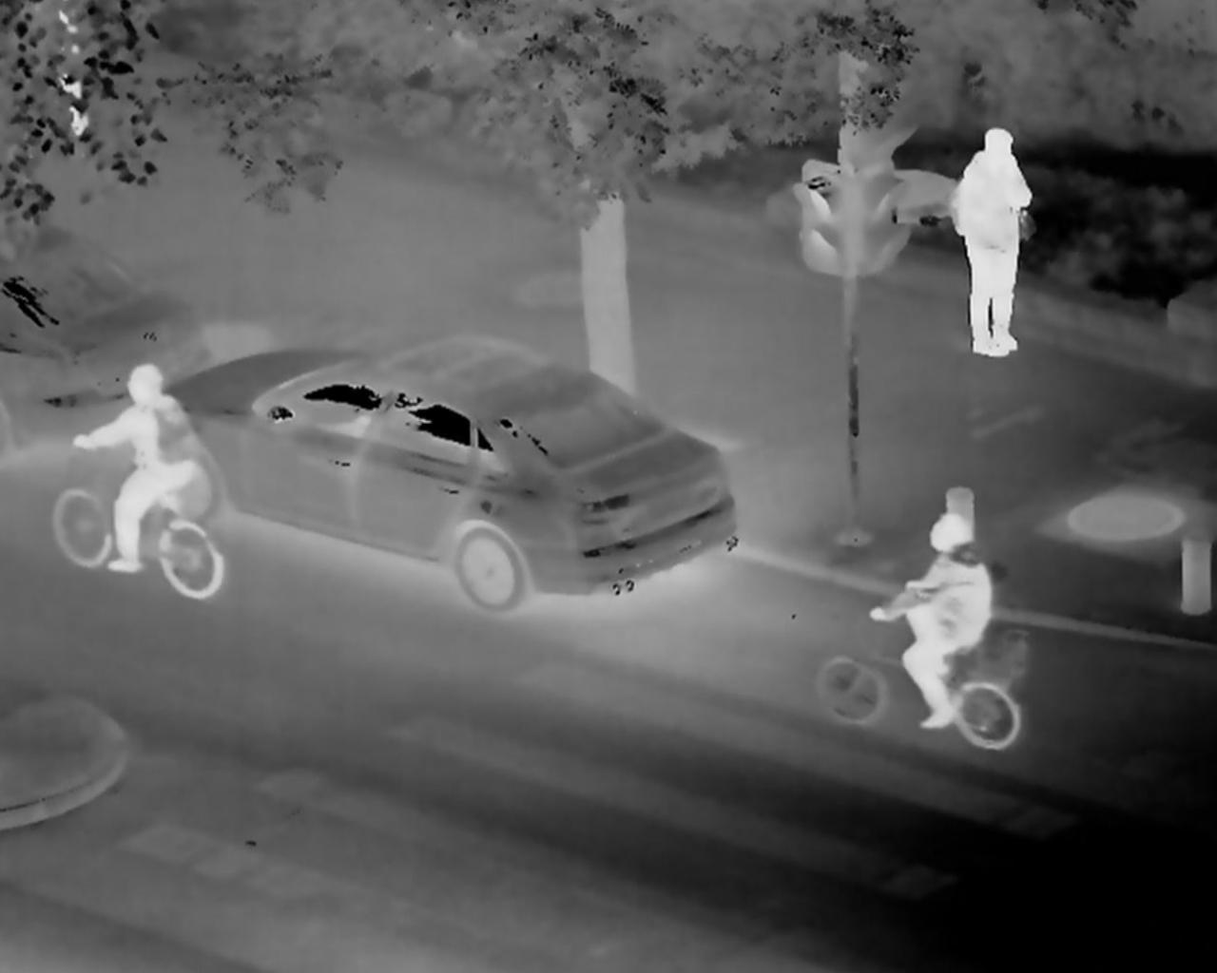person: (861, 504, 1005, 737), (72, 367, 208, 598), (943, 119, 1029, 363)
